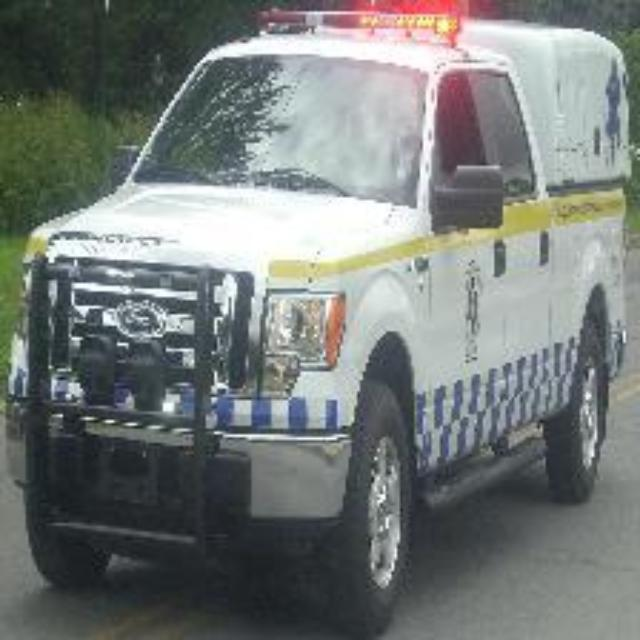emergency: (16, 4, 618, 610)
